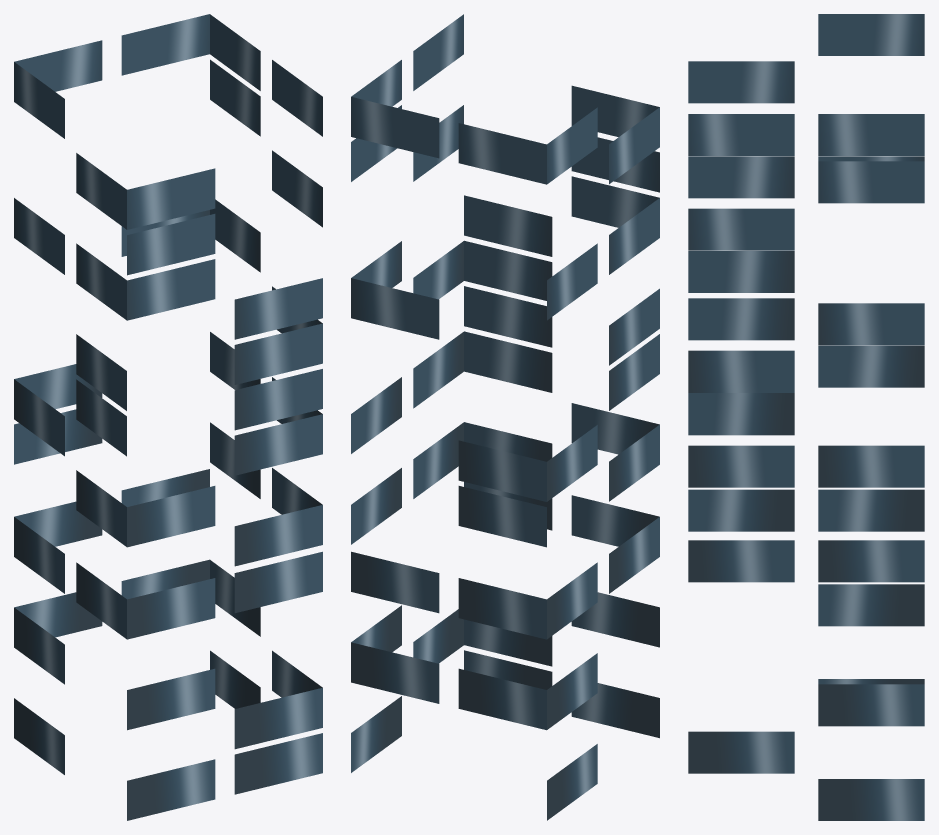
File: apartmenttower2windows.fbx
The picture shows the model from 3 angles, left to right: view 1: azimuth 30°, elevation 25°; view 2: azimuth 150°, elevation 25°; view 3: azimuth 270°, elevation 25°; orthographic projection. The views are drawn at different scales.
Parts seen in each view (by area): view 1: apartmenttower2window; view 2: apartmenttower2window; view 3: apartmenttower2window.
Boxes of the visible parts, x1,y1,x2,y2 form: apartmenttower2window: (14,14,322,820); apartmenttower2window: (351,14,659,820); apartmenttower2window: (688,14,924,820).
Bounding box in the file's own units: 24.6 × 81.25 × 24.6.
